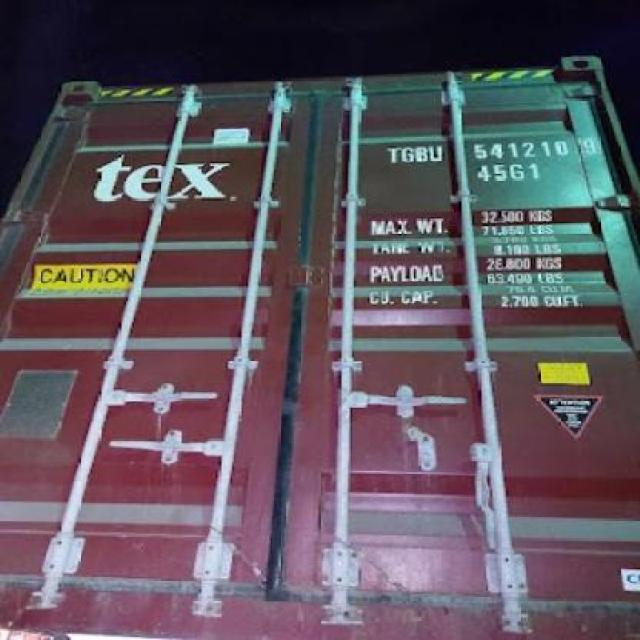ISO: (464, 160, 544, 187)
container_number: (387, 137, 577, 162)
